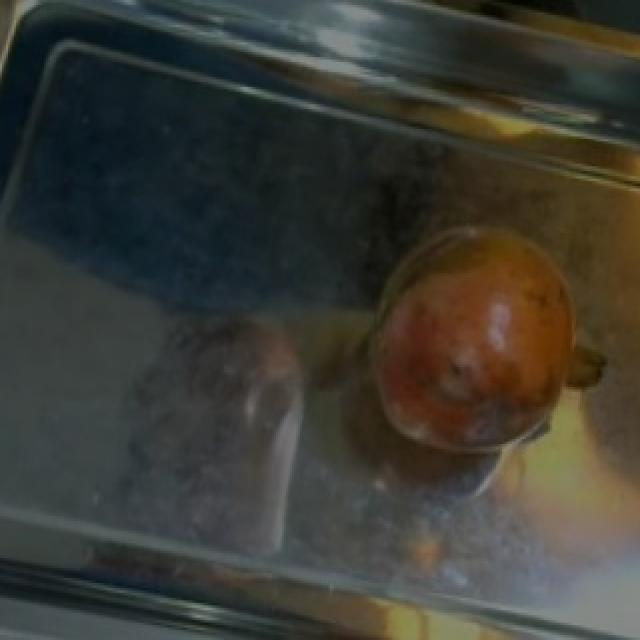fruit: (336, 198, 606, 472)
